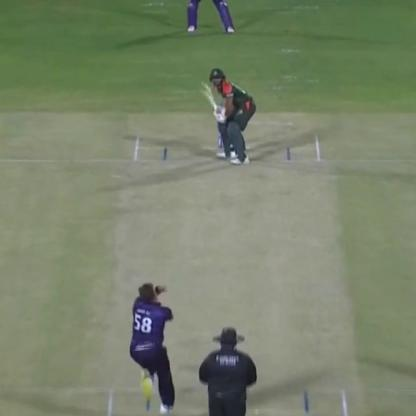bat: (184, 78, 226, 122)
pitch: (104, 145, 360, 416)
